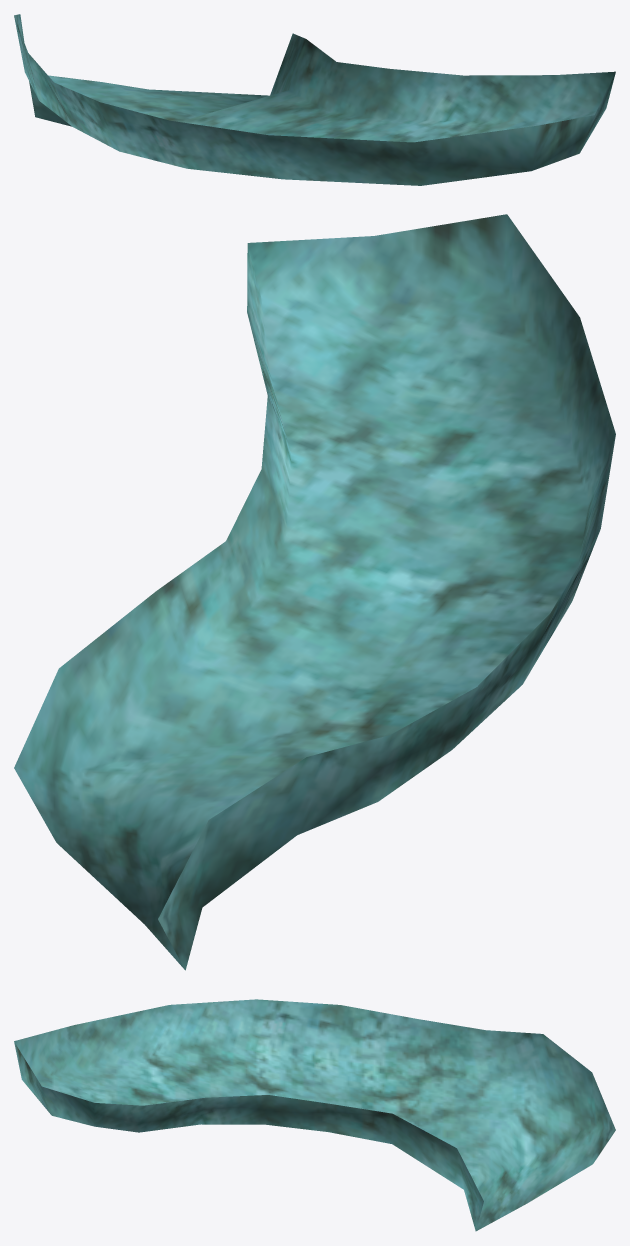
File: EKH_BARRELROOM_PS_JA1_RIVER_BOTTOM74645.fbx
The picture shows the model from 3 angles, top to bottom: view 1: azimuth 30°, elevation 25°; view 2: azimuth 150°, elevation 25°; view 3: azimuth 270°, elevation 25°; orthographic projection. The views are drawn at different scales.
Visible parts, largest first — view 1: EKH_BARRELROOM_PS_JA1_RIVER_BOTTOM74645; view 2: EKH_BARRELROOM_PS_JA1_RIVER_BOTTOM74645; view 3: EKH_BARRELROOM_PS_JA1_RIVER_BOTTOM74645.
Part boxes in pixels (<box>): EKH_BARRELROOM_PS_JA1_RIVER_BOTTOM74645: <box>14,14,615,185</box>; EKH_BARRELROOM_PS_JA1_RIVER_BOTTOM74645: <box>14,214,615,970</box>; EKH_BARRELROOM_PS_JA1_RIVER_BOTTOM74645: <box>14,999,615,1231</box>.
Bounding box in the file's own units: 53874 × 33769 × 96908.
1 material, 1 textured.
